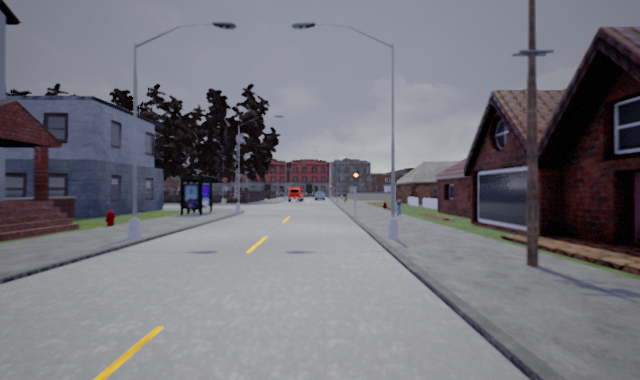pedestrian: (394, 197, 404, 217)
traffic_light: (352, 170, 360, 187)
vehicle: (286, 186, 304, 203), (313, 191, 326, 200)
